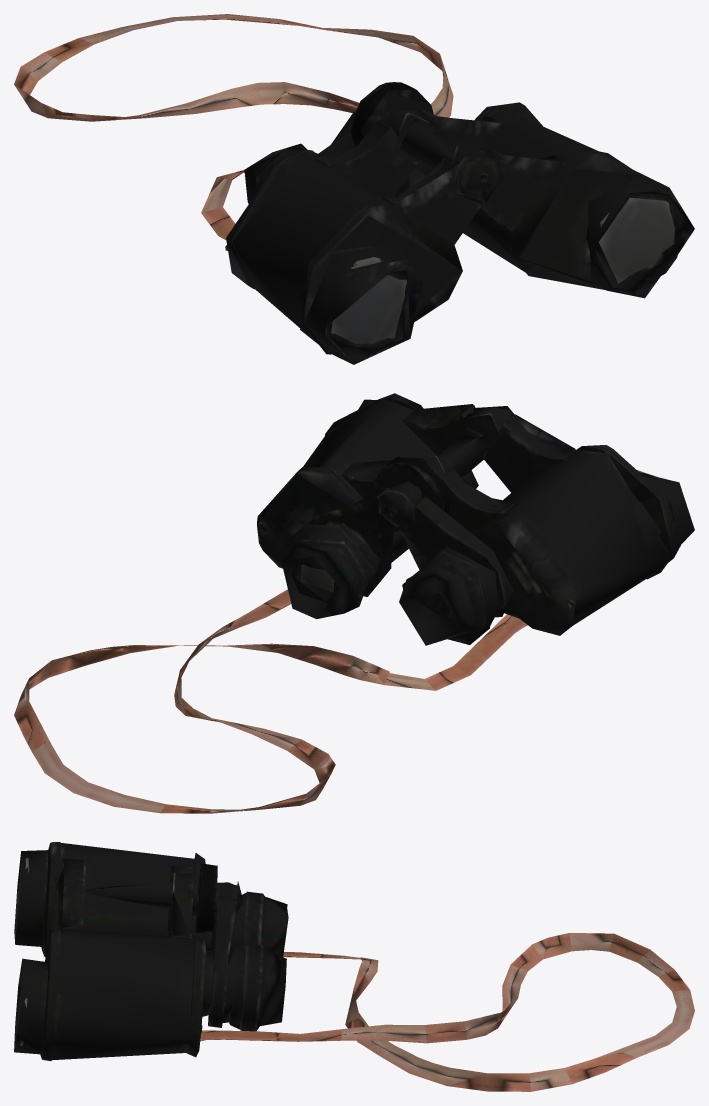
Rendered from binoculars_lod1.glb.
3 renders of one model, top to bottom at view 1: azimuth 30°, elevation 25°; view 2: azimuth 150°, elevation 25°; view 3: azimuth 270°, elevation 25°, orthographic. The views are drawn at different scales.
Parts seen in each view (by area): view 1: binoculars_left, binoculars_strap; view 2: binoculars_left, binoculars_strap; view 3: binoculars_left, binoculars_strap.
Boxes of the visible parts, <box> form: binoculars_left: <box>225,82,694,364</box>; binoculars_strap: <box>14,14,453,239</box>; binoculars_left: <box>257,393,694,645</box>; binoculars_strap: <box>14,589,527,813</box>; binoculars_left: <box>14,842,288,1061</box>; binoculars_strap: <box>200,933,694,1091</box>.
Bounding box in the file's own units: 0.1654 × 0.0648 × 0.2861.
Materials: 2 (2 with a texture image).
